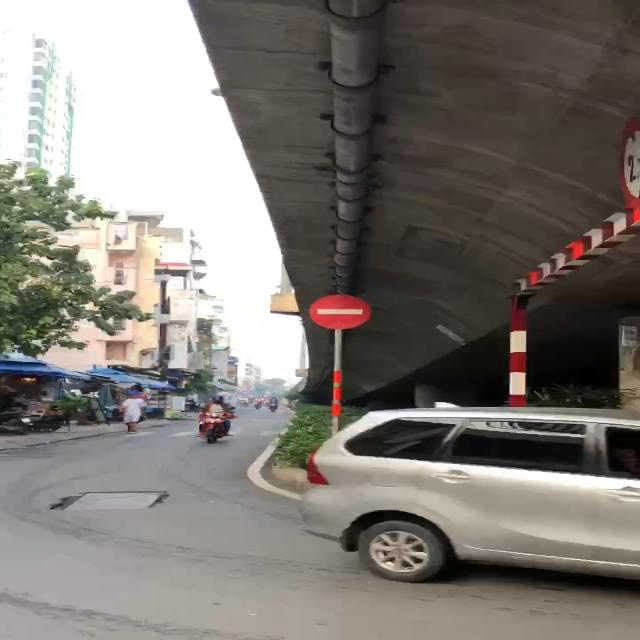Bien bao cam di nguoc chieu: (302, 290, 376, 332)
